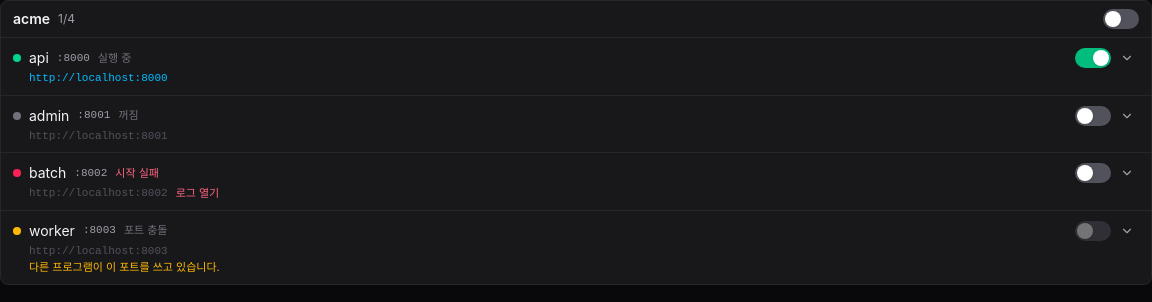
Test: GroupCard › 전체 켜기는 꺼짐·실패 서비스만 켜고, 진행 중에는 스위치를 잠근다
What coordinates should you click on to do the following:
click the switch named "acme 전체"
I would click on:
 (1121, 19)
Its box is [1103,9,1139,29].
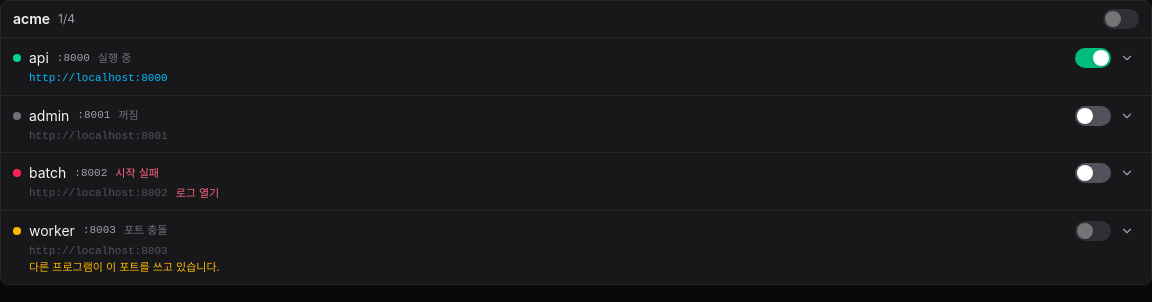
Expected: the switch named "acme 전체" is disabled, [1103,9,1139,29]
